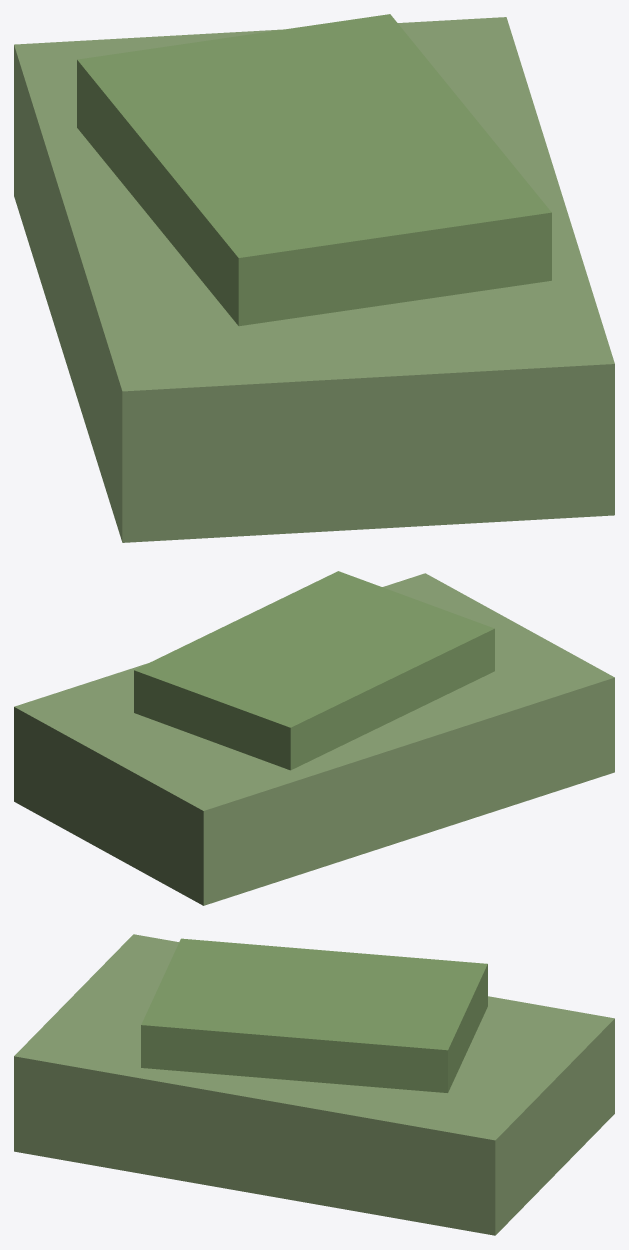
The model's file is structure.glb.
3 renders of one model, top to bottom at view 1: azimuth 30°, elevation 25°; view 2: azimuth 150°, elevation 25°; view 3: azimuth 270°, elevation 25°, orthographic. The views are drawn at different scales.
Parts seen in each view (by area): view 1: Box1, Box2; view 2: Box1, Box2; view 3: Box1, Box2.
Part boxes in pixels (box(x1,y1,x2,y2)): Box1: box(14, 17, 614, 542); Box2: box(77, 14, 551, 326); Box1: box(14, 573, 614, 905); Box2: box(134, 571, 494, 770); Box1: box(14, 934, 614, 1235); Box2: box(141, 938, 487, 1092).
Size of the model in its own units: 120 by 37.63 by 148.
